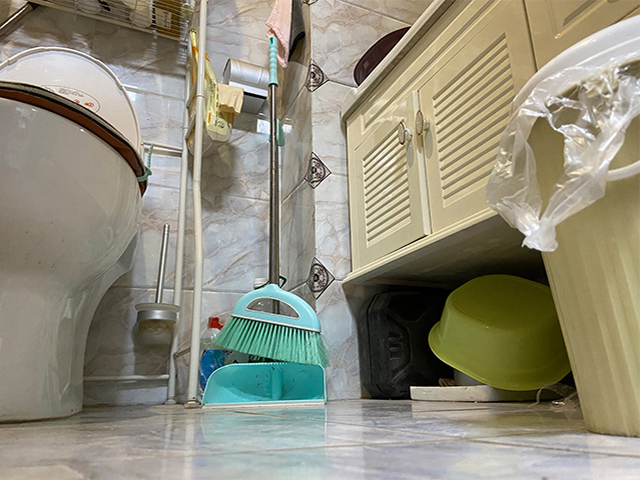closestool: (1, 45, 153, 423)
trashcan: (510, 14, 640, 440)
